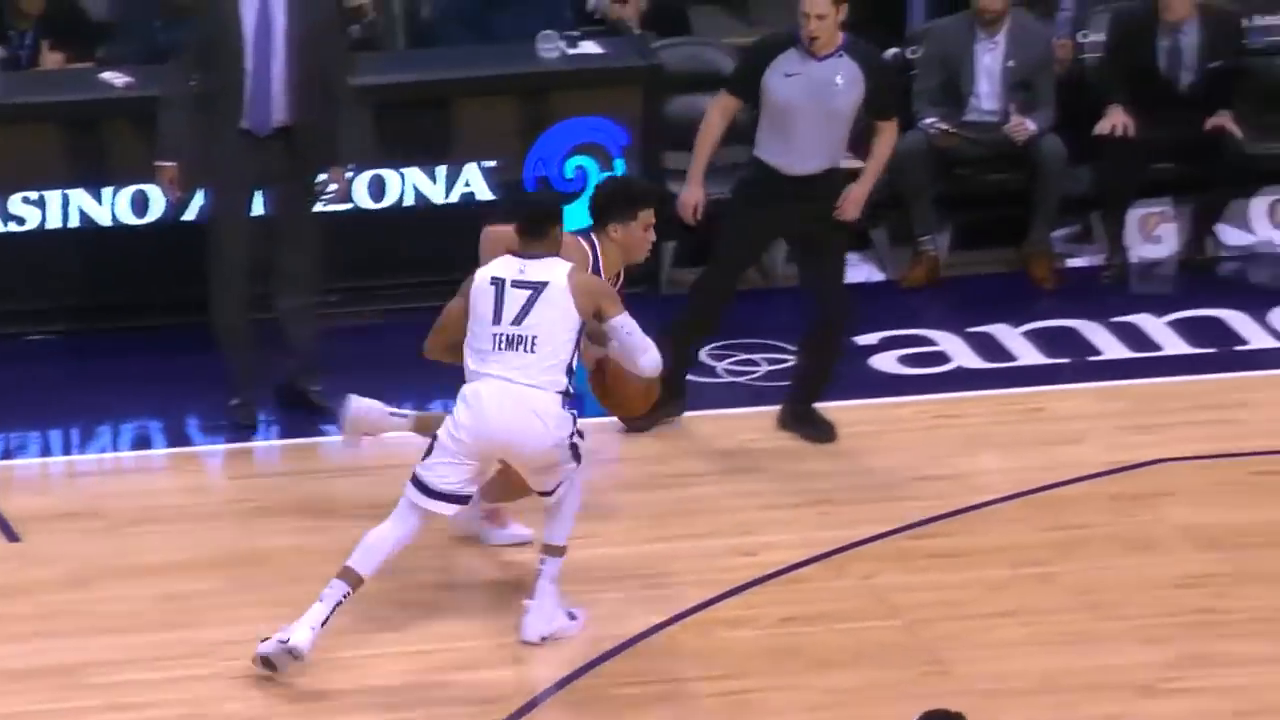ball: (593, 356, 662, 417)
